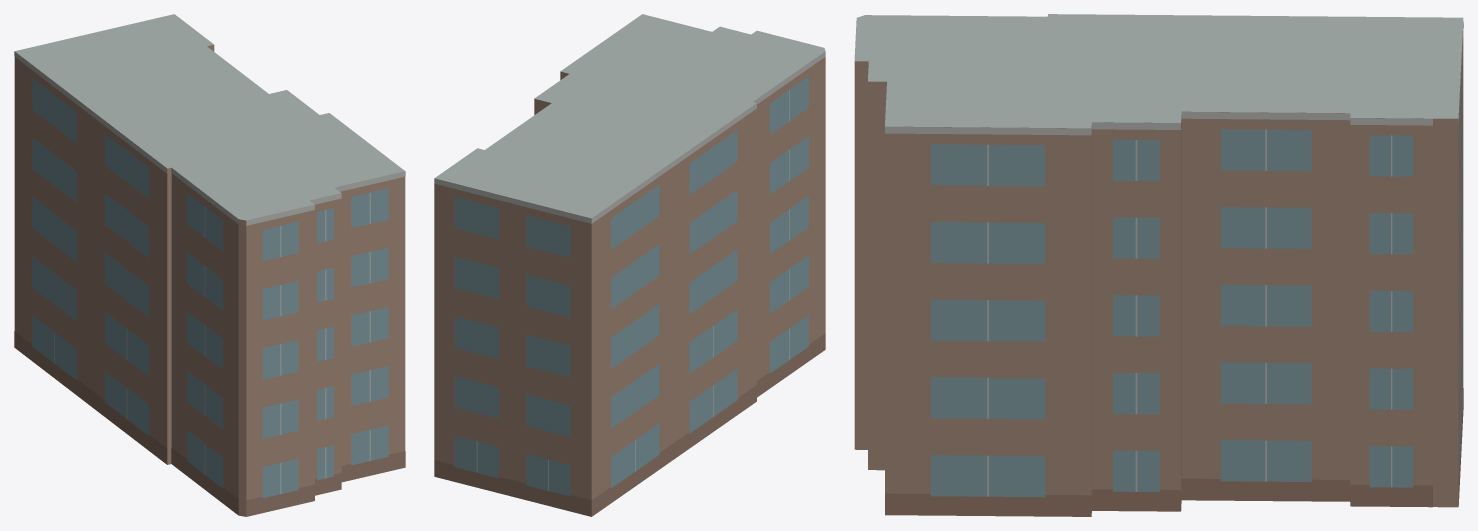
The model's file is survey-upis-32723032.glb.
3 views of the same model, side by side, from view 1: azimuth 30°, elevation 25°; view 2: azimuth 150°, elevation 25°; view 3: azimuth 270°, elevation 25° (orthographic). The views are drawn at different scales.
Parts seen in each view (by area): view 1: survey-upis-32723032.tmp; view 2: survey-upis-32723032.tmp; view 3: survey-upis-32723032.tmp.
Part boxes in pixels (bbox=[...]): survey-upis-32723032.tmp: bbox=[14, 14, 405, 516]; survey-upis-32723032.tmp: bbox=[434, 14, 825, 516]; survey-upis-32723032.tmp: bbox=[854, 14, 1463, 516].
Size of the model in its own units: 8.53 by 13.5 by 19.19.
